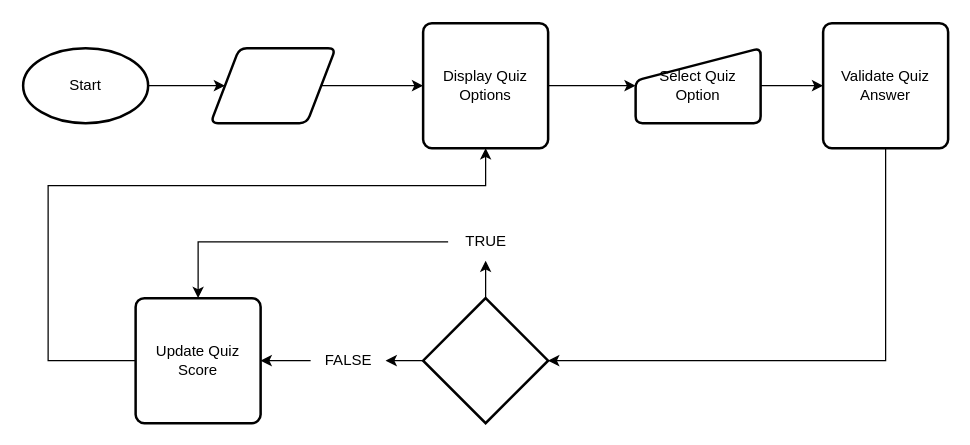
Some shapes in this 970 by 445 pixel diagram are drawn without their labels. The centre of each missing label's shape, as x and y in pixels:
"Is Correct Quiz Anwser" goes at (x=485, y=360).
"Load JSON" goes at (x=272, y=85).
